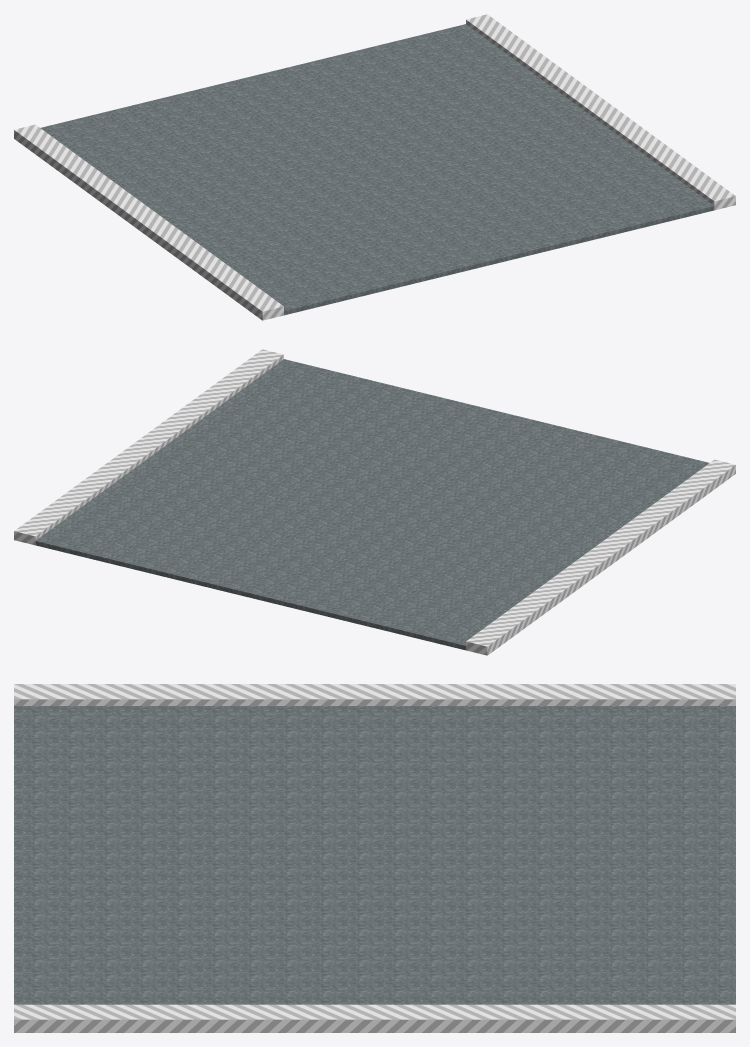
Rendered from track tile straight.fbx.
The picture shows the model from 3 angles, top to bottom: view 1: azimuth 30°, elevation 25°; view 2: azimuth 150°, elevation 25°; view 3: azimuth 270°, elevation 25°; orthographic projection. The views are drawn at different scales.
Visible parts, largest first — view 1: block (×3); view 2: block (×3); view 3: block (×3).
Boxes of the visible parts, x1,y1,x2,y2 form: block (×3): [14, 14, 735, 320]; block (×3): [14, 349, 735, 655]; block (×3): [14, 684, 735, 1032].
Bounding box in the file's own units: 220 × 4 × 200.
2 materials, 2 textured.
